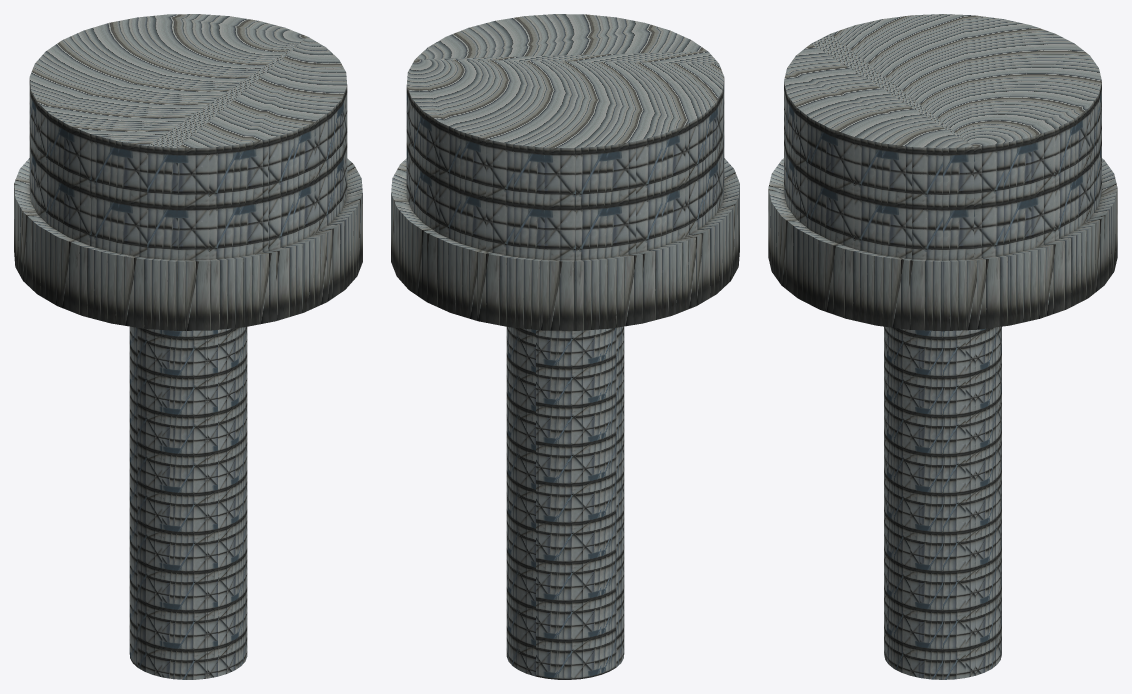
The model's file is SM_Republic_05_00.fbx.
3 renders of one model, left to right at view 1: azimuth 30°, elevation 25°; view 2: azimuth 150°, elevation 25°; view 3: azimuth 270°, elevation 25°, orthographic.
Parts seen in each view (by area): view 1: SM_Republic_05_00.006, SM_Republic_05_00.002; view 2: SM_Republic_05_00.006, SM_Republic_05_00.002; view 3: SM_Republic_05_00.006, SM_Republic_05_00.002.
Boxes of the visible parts, x1=… form: SM_Republic_05_00.006: x1=29, y1=14, x2=347, y2=260; SM_Republic_05_00.002: x1=14, y1=158, x2=362, y2=679; SM_Republic_05_00.006: x1=406, y1=14, x2=724, y2=260; SM_Republic_05_00.002: x1=391, y1=158, x2=739, y2=679; SM_Republic_05_00.006: x1=784, y1=14, x2=1101, y2=260; SM_Republic_05_00.002: x1=768, y1=158, x2=1117, y2=679.
Size of the model in its own units: 6759 by 12252 by 6759.
